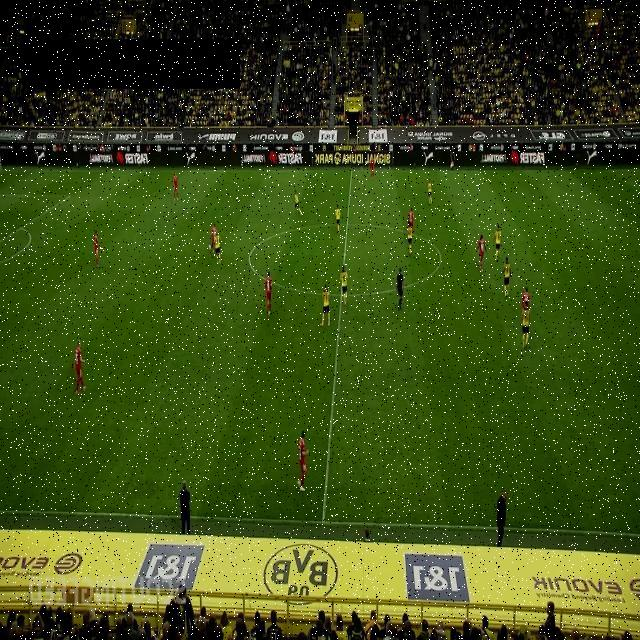Ball: (208, 244, 212, 252)
Referee: (396, 266, 404, 310), (448, 146, 456, 172)
TEAM 1: (297, 430, 309, 492), (74, 340, 87, 396), (477, 234, 488, 272), (264, 270, 272, 316), (209, 222, 217, 252), (94, 230, 100, 268), (522, 286, 530, 310), (173, 172, 179, 202), (408, 206, 414, 234), (370, 155, 374, 180)
TEAM 2: (500, 256, 512, 298), (521, 302, 531, 350), (320, 284, 330, 328), (493, 223, 502, 261), (340, 264, 348, 306), (406, 220, 414, 256), (213, 230, 221, 265), (334, 204, 342, 234), (294, 190, 302, 214), (427, 178, 433, 204)
